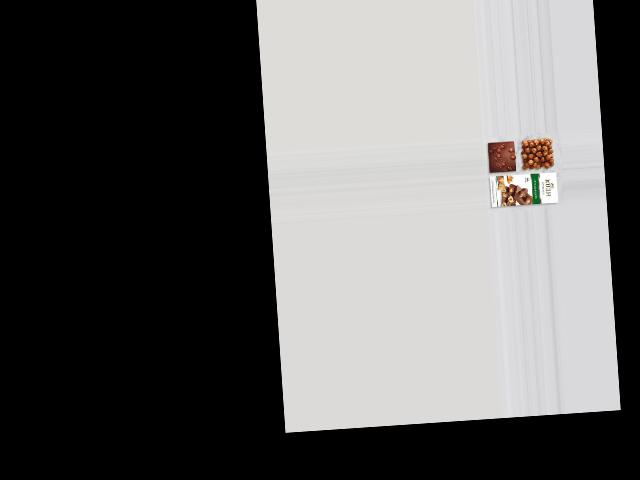chocolate: (485, 137, 516, 174)
